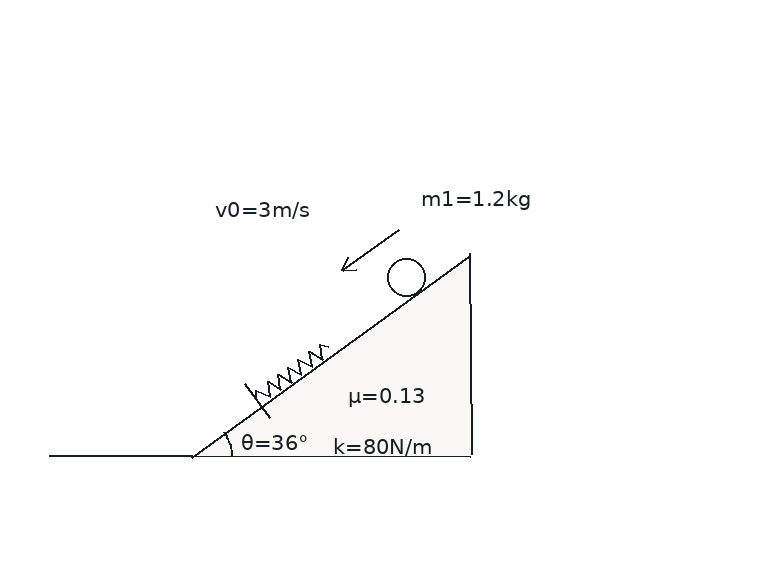ball: (385, 256, 427, 298)
ramp: (190, 252, 471, 458)
spring: (254, 342, 330, 400)
